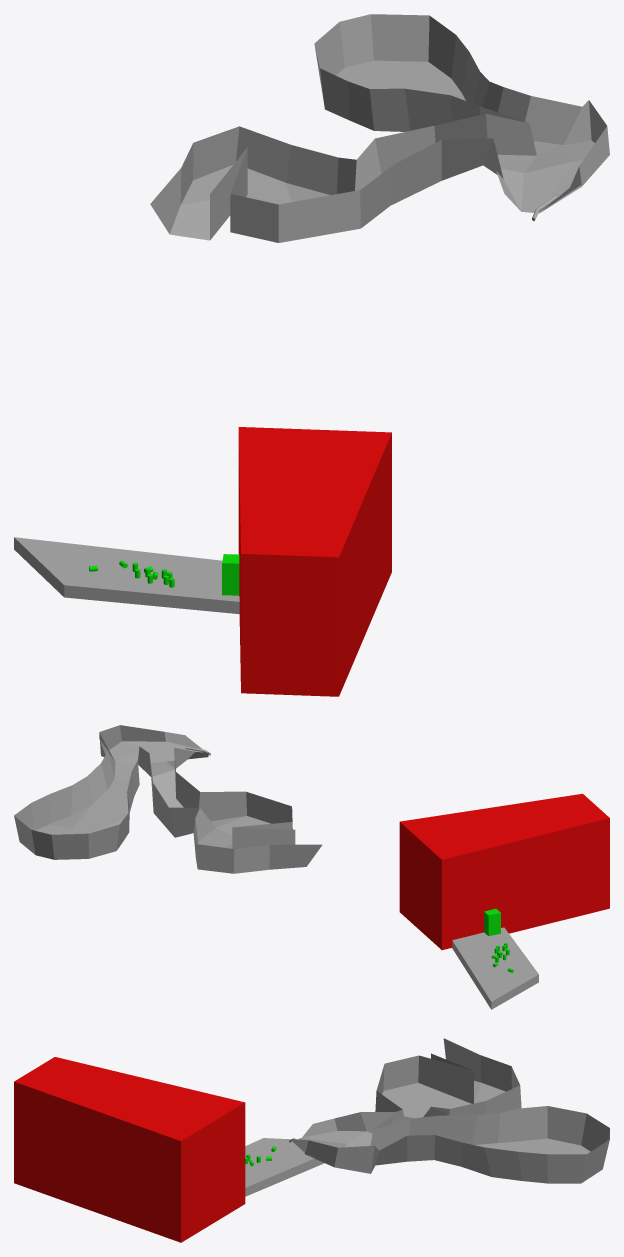
Rendered from GreyBox2.fbx.
3 renders of one model, top to bottom at view 1: azimuth 30°, elevation 25°; view 2: azimuth 150°, elevation 25°; view 3: azimuth 270°, elevation 25°, orthographic. The views are drawn at different scales.
Visible parts, largest first — view 1: pPlane1, Space_Ship, Rock13; view 2: Space_Ship, pPlane1, Rock13, Control_Panel; view 3: Space_Ship, pPlane1, Rock13.
Boxes of the visible parts, left/top/right/bottom form: pPlane1: left=150, top=14, right=609, bottom=242; Space_Ship: left=238, top=427, right=391, bottom=696; Rock13: left=14, top=537, right=239, bottom=614; Space_Ship: left=399, top=793, right=609, bottom=950; pPlane1: left=14, top=725, right=322, bottom=873; Rock13: left=452, top=927, right=538, bottom=1009; Control_Panel: left=484, top=908, right=500, bottom=936; Space_Ship: left=14, top=1057, right=245, bottom=1242; pPlane1: left=292, top=1038, right=609, bottom=1183; Rock13: left=245, top=1138, right=324, bottom=1196.
Size of the model in its own units: 104 by 48.54 by 122.
